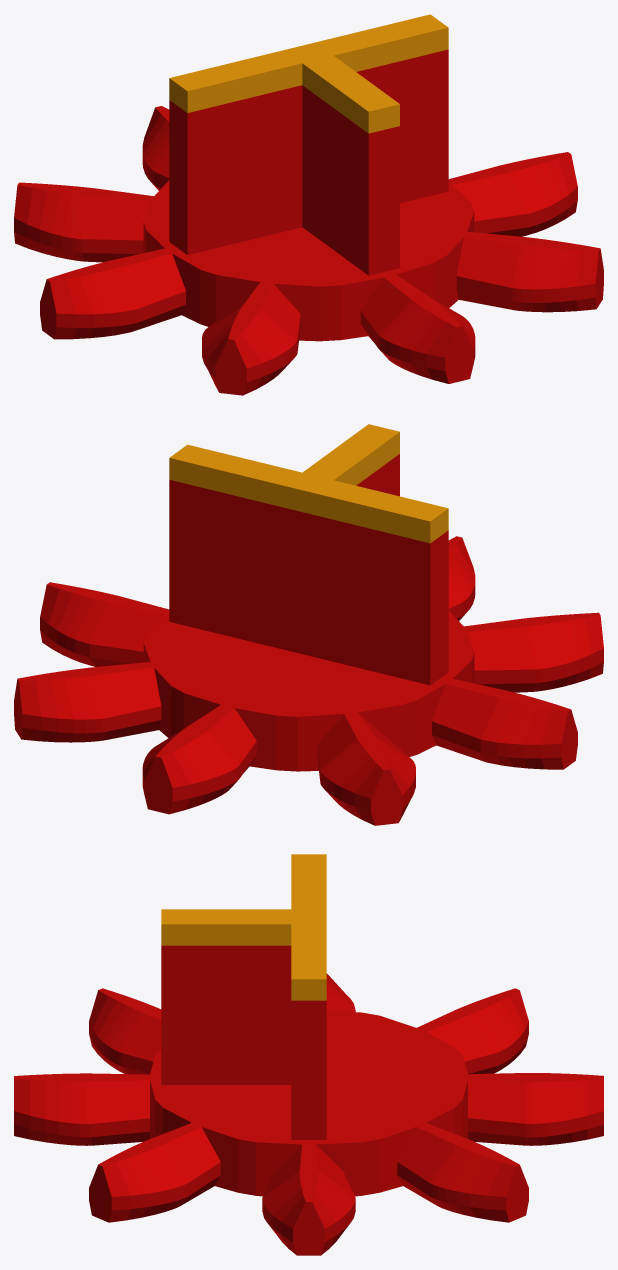
The model's file is gears-GearOrange.glb.
3 views of the same model, one above another, from view 1: azimuth 30°, elevation 25°; view 2: azimuth 150°, elevation 25°; view 3: azimuth 270°, elevation 25° (orthographic). The views are drawn at different scales.
Parts seen in each view (by area): view 1: Gear.003; view 2: Gear.003; view 3: Gear.003.
Boxes of the visible parts, left/top/right/bottom form: Gear.003: left=14, top=14, right=603, bottom=395; Gear.003: left=14, top=424, right=603, bottom=825; Gear.003: left=14, top=854, right=603, bottom=1255.
Bounding box in the file's own units: 0.0999 × 0.04 × 0.0999.
